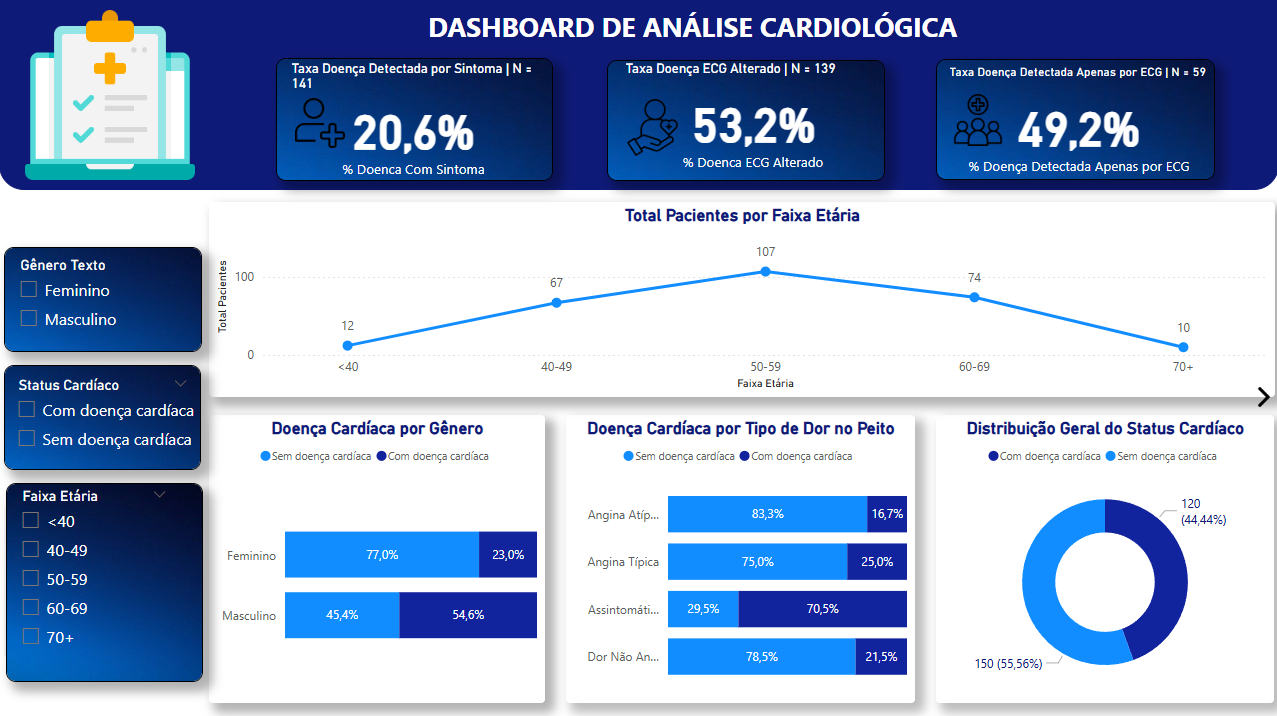

Layout of this report page (visuals, bound fields, positions):
{"tool":"powerbi","page":{"name":"Triagem e Perfil de Risco Cardíaco","canvas":[1280,720],"ordinal":0},"visuals":[{"type":"image","box":[5,248,197.9,105],"z":0,"group":"g5"},{"type":"hundredPercentStackedBarChart","title":"Doença Cardíaca por Gênero","fields":{"Series":["Análise de Risco Cardíaco.Status Cardíaco"],"Y":["Sintomas e Exames na Doença Cardíaca.% Pacientes por Status"],"Category":["Sintomas e Exames na Doença Cardíaca.Gênero Texto"]},"box":[209.9,416,335.7,288.3],"z":0},{"type":"advancedSlicerVisual","box":[5,416,198,288],"z":1000,"group":"g5"},{"type":"hundredPercentStackedBarChart","title":"Doença Cardíaca por Tipo de Dor no Peito","fields":{"Category":["Análise de Risco Cardíaco.Tipo de Dor no Peito"],"Series":["Análise de Risco Cardíaco.Status Cardíaco"],"Y":["Sintomas e Exames na Doença Cardíaca.% Pacientes por Status"]},"box":[567,416,349.3,288.3],"z":1000},{"type":"slicer","fields":{"Values":["Sintomas e Exames na Doença Cardíaca.Gênero Texto"]},"box":[8.7,253,194.2,95],"z":2000,"group":"g5"},{"type":"donutChart","title":"Distribuição Geral do Status Cardíaco","fields":{"Category":["Sintomas e Exames na Doença Cardíaca.Status Cardíaco"],"Y":["Sintomas e Exames na Doença Cardíaca.Total de Pacientes"]},"box":[936.5,416,338.6,288.3],"z":2000},{"type":"shape","box":[0,44,1280,147],"z":3000},{"type":"lineChart","fields":{"Category":["Sintomas e Exames na Doença Cardíaca.Faixa Etária"],"Y":["Sintomas e Exames na Doença Cardíaca.Total de Pacientes"]},"box":[210,203.3,1065.6,194.4],"z":4000},{"type":"textbox","box":[266,0,929,60],"z":5000},{"type":"shape","box":[0,0,1280,72],"z":6000},{"type":"textbox","box":[240,4,908,52],"z":7000},{"type":"image","box":[21,0,180,191],"z":8000},{"type":"group","id":"g1","title":"Grupo 2","box":[936.7,59.8,278.9,121.2],"z":8000,"group":"g4"},{"type":"group","id":"g2","title":"Grupo 1","box":[277,59,278,123],"z":9000},{"type":"card","fields":{"Values":["Sintomas e Exames na Doença Cardíaca.% Doença Detectada Apenas por ECG"]},"box":[946,63.6,267.5,120.6],"z":9000,"group":"g4"},{"type":"group","id":"g3","title":"Grupo 5","box":[608,61,279,121],"z":10000},{"type":"image","box":[608,61,278,121.2],"z":10000,"group":"g3"},{"type":"group","id":"g4","title":"Grupo 9","box":[936.7,59.8,279.3,124.2],"z":11000},{"type":"image","box":[936.7,59.8,278.9,121.2],"z":11000,"group":"g1"},{"type":"group","id":"g5","title":"Grupo 7","box":[5,248,198,456],"z":12000},{"type":"card","fields":{"Values":["Sintomas e Exames na Doença Cardíaca.% Doenca ECG Alterado"]},"box":[621.6,62,264.8,120.2],"z":13000,"group":"g3"},{"type":"image","box":[948.2,83.4,61.6,72.9],"z":13000,"group":"g1"},{"type":"group","id":"g6","title":"Grupo 8","box":[5,366,198,118],"z":13000},{"type":"image","box":[5,366,197.5,105],"z":13000,"group":"g6"},{"type":"image","box":[7,484,197,199],"z":13000,"group":"g7"},{"type":"slicer","fields":{"Values":["Sintomas e Exames na Doença Cardíaca.Status Cardíaco"]},"box":[6.8,373,193.8,111],"z":14000,"group":"g6"},{"type":"group","id":"g7","title":"Grupo 6","box":[7,484,197,199],"z":14000},{"type":"slicer","title":"asdsa","fields":{"Values":["Sintomas e Exames na Doença Cardíaca.Faixa Etária"]},"box":[11,484,169,193],"z":14000,"group":"g7"},{"type":"image","box":[615.3,94.9,78.2,66.8],"z":15000,"group":"g3"},{"type":"image","box":[1250,377,30,42],"z":15002},{"type":"image","box":[277,59,277.5,122.8],"z":16000,"group":"g2"},{"type":"card","fields":{"Values":["Sintomas e Exames na Doença Cardíaca.% Doenca Com Dor no Peito"]},"box":[287.7,62.5,253.1,117.7],"z":17000,"group":"g2"},{"type":"image","box":[286,94.4,69.9,59.3],"z":18000,"group":"g2"}]}

Visuals, with their boxes in screenshot pixels (x1, y1, x2, y2), scaled from the page's 1280x720 canvas onto the 1277x716 screenshot:
image: Rect(5, 247, 202, 351)
"Doença Cardíaca por Gênero" hundredPercentStackedBarChart: Rect(209, 414, 544, 700)
advancedSlicerVisual: Rect(5, 414, 203, 700)
"Doença Cardíaca por Tipo de Dor no Peito" hundredPercentStackedBarChart: Rect(566, 414, 914, 700)
slicer - Sintomas e Exames na Doença Cardíaca.Gênero Texto: Rect(9, 252, 202, 346)
"Distribuição Geral do Status Cardíaco" donutChart: Rect(934, 414, 1272, 700)
shape: Rect(0, 44, 1276, 190)
lineChart - Sintomas e Exames na Doença Cardíaca.Faixa Etária x Sintomas e Exames na Doença Cardíaca.Total de Pacientes: Rect(210, 202, 1273, 395)
textbox: Rect(265, 0, 1192, 60)
shape: Rect(0, 0, 1276, 72)
textbox: Rect(239, 4, 1145, 56)
image: Rect(21, 0, 201, 190)
"Grupo 2" group: Rect(935, 59, 1213, 180)
"Grupo 1" group: Rect(276, 59, 554, 181)
card - Sintomas e Exames na Doença Cardíaca.% Doença Detectada Apenas por ECG: Rect(944, 63, 1211, 183)
"Grupo 5" group: Rect(607, 61, 885, 181)
image: Rect(607, 61, 884, 181)
"Grupo 9" group: Rect(935, 59, 1213, 183)
image: Rect(935, 59, 1213, 180)
"Grupo 7" group: Rect(5, 247, 203, 700)
card - Sintomas e Exames na Doença Cardíaca.% Doenca ECG Alterado: Rect(620, 62, 884, 181)
image: Rect(946, 83, 1007, 155)
"Grupo 8" group: Rect(5, 364, 203, 481)
image: Rect(5, 364, 202, 468)
image: Rect(7, 481, 204, 679)
slicer - Sintomas e Exames na Doença Cardíaca.Status Cardíaco: Rect(7, 371, 200, 481)
"Grupo 6" group: Rect(7, 481, 204, 679)
"asdsa" slicer: Rect(11, 481, 180, 673)
image: Rect(614, 94, 692, 161)
image: Rect(1247, 375, 1276, 417)
image: Rect(276, 59, 553, 181)
card - Sintomas e Exames na Doença Cardíaca.% Doenca Com Dor no Peito: Rect(287, 62, 540, 179)
image: Rect(285, 94, 355, 153)
